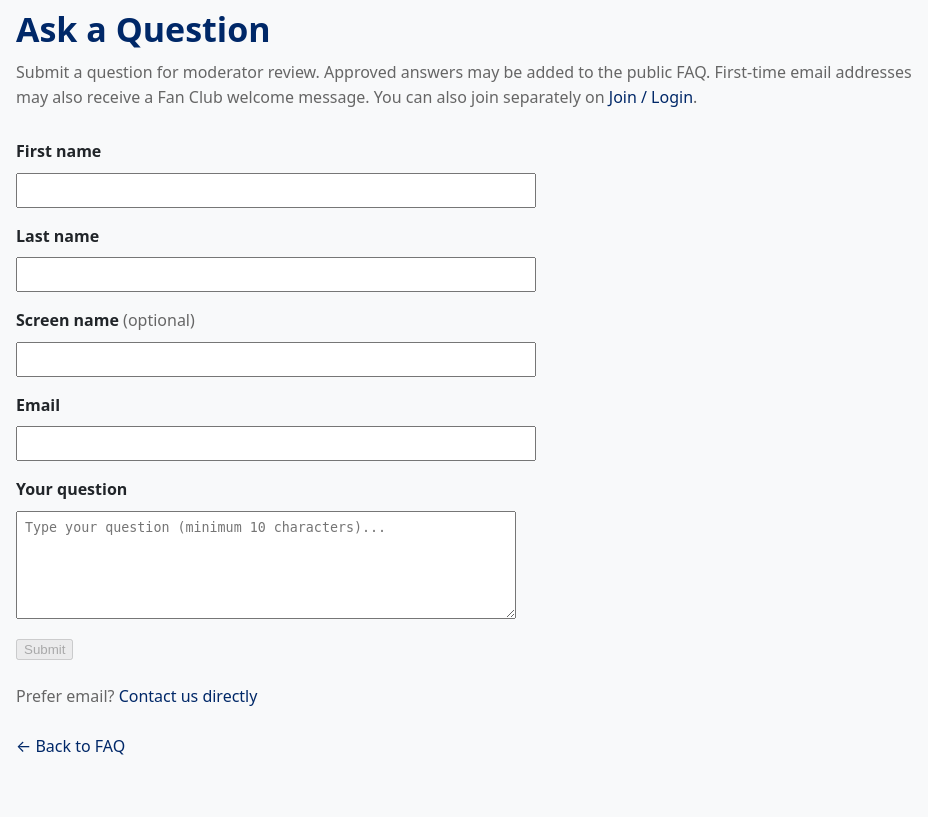
Test: Ask page › shows spec error message when submission fails
Step 1. Type "Lou" into the field labelled "First name" → (276,190), box left=16, top=173, right=536, bottom=208
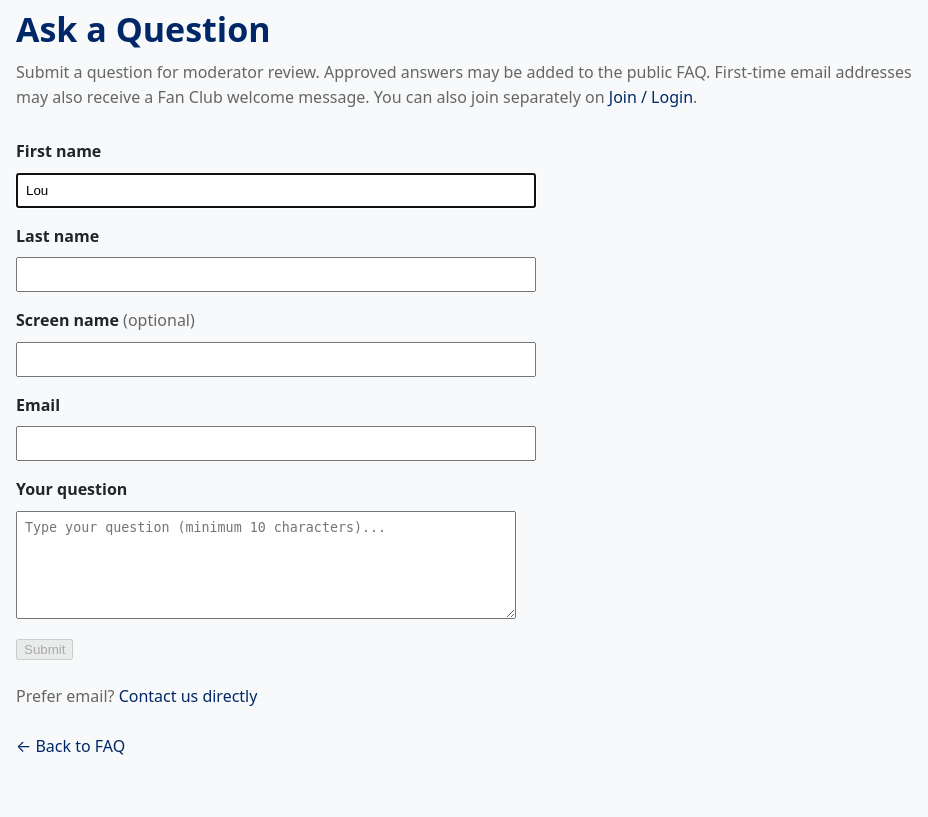
Step 2. Type "Gehrig" into the field labelled "Last name" → (276,275), box left=16, top=257, right=536, bottom=292
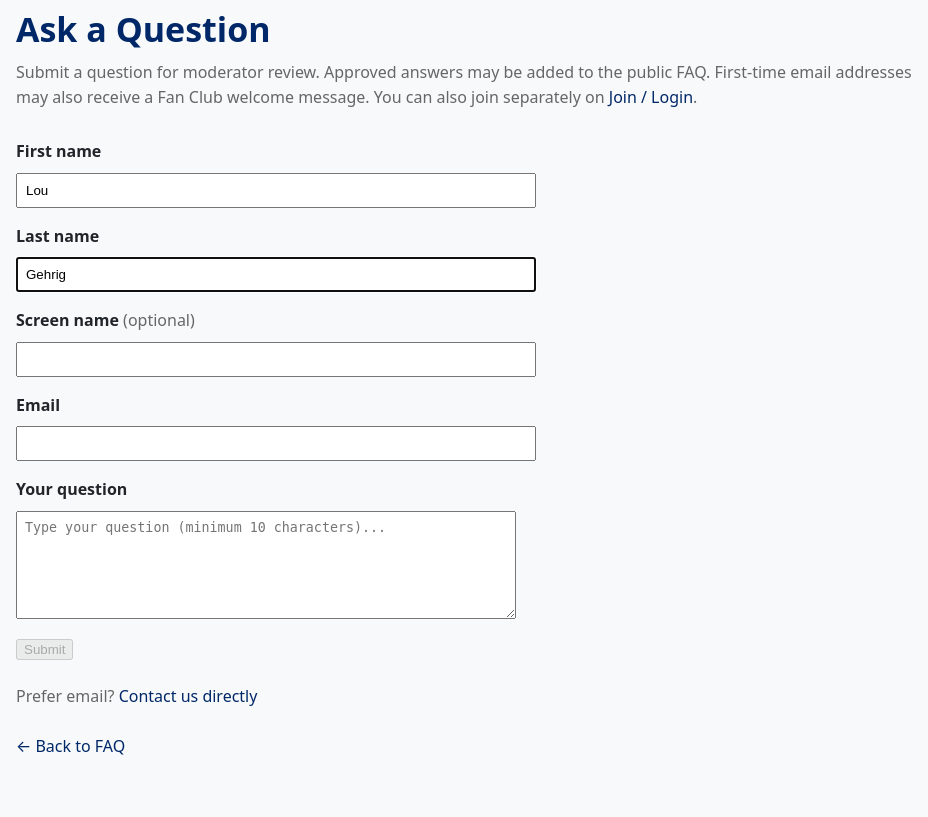
Step 3. Type "fan@example.com" into the field labelled "Email" → (276,444), box left=16, top=426, right=536, bottom=461
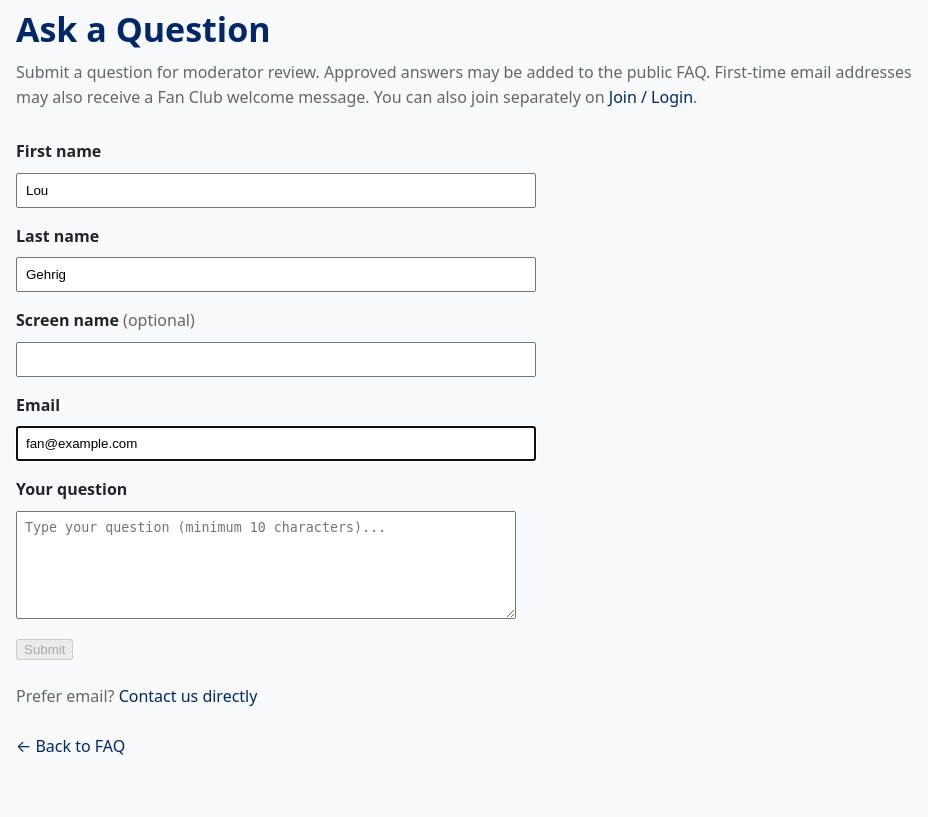
Step 4. Type "How do I join the fan club online?" into the text box labelled "Your question" → (266,565), box left=16, top=511, right=516, bottom=619
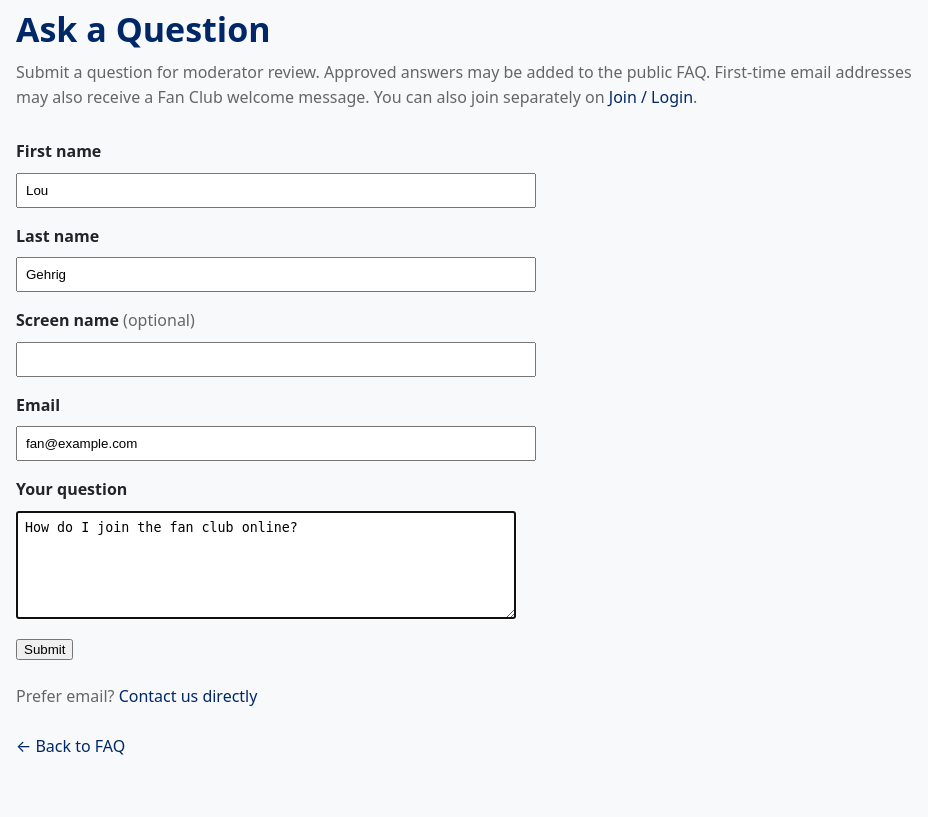
Step 5. Click the button "Submit" → (45,650), box left=16, top=639, right=74, bottom=660
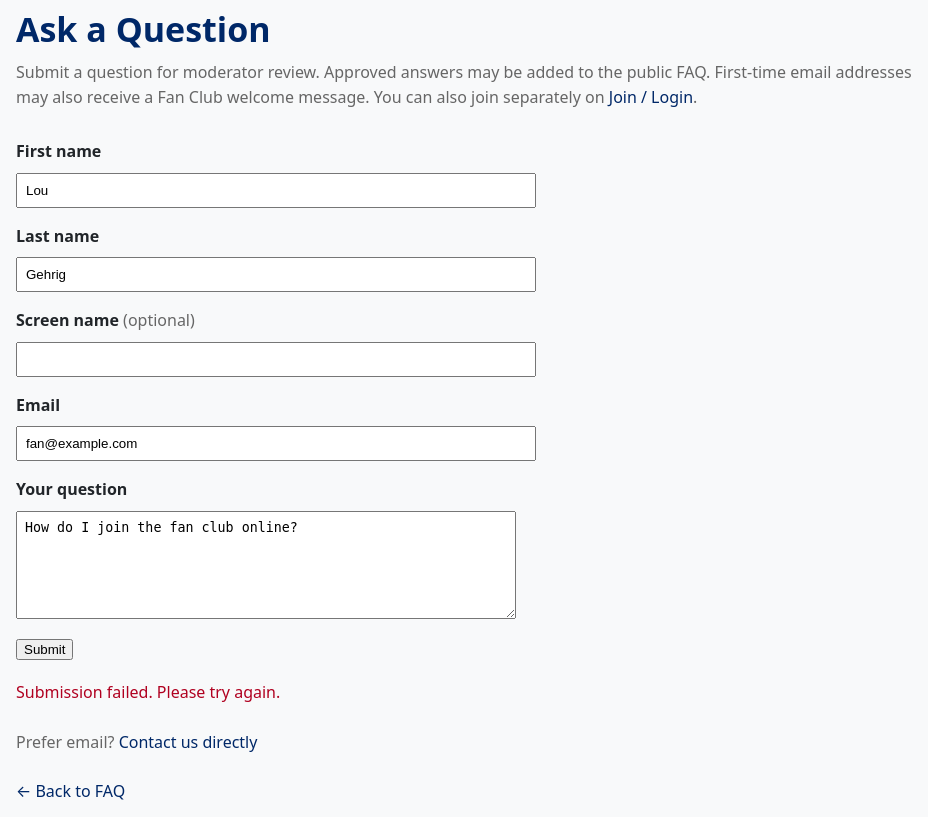
Expected: the text "Submission failed. Please try again." is shown, left=16, top=681, right=280, bottom=703
